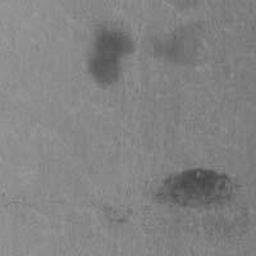Oil spot: (91, 166, 253, 251), (84, 18, 210, 91), (160, 0, 202, 20)
